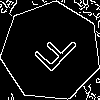F: (26, 26, 80, 81)
